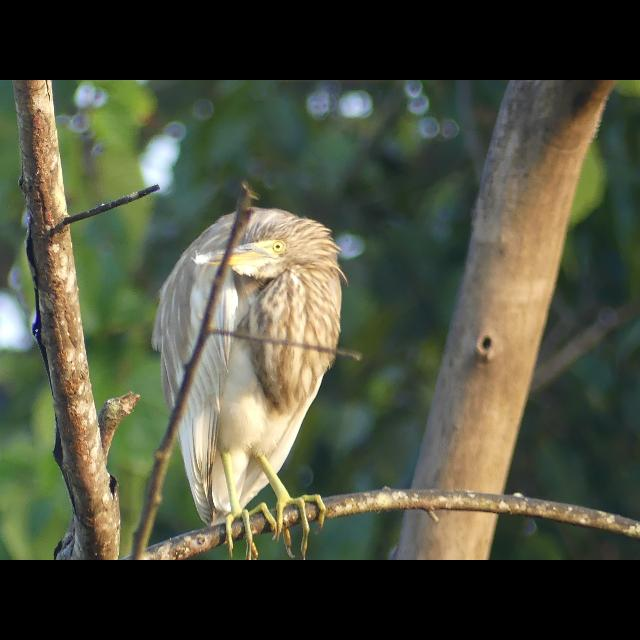heron: (155, 206, 355, 548)
